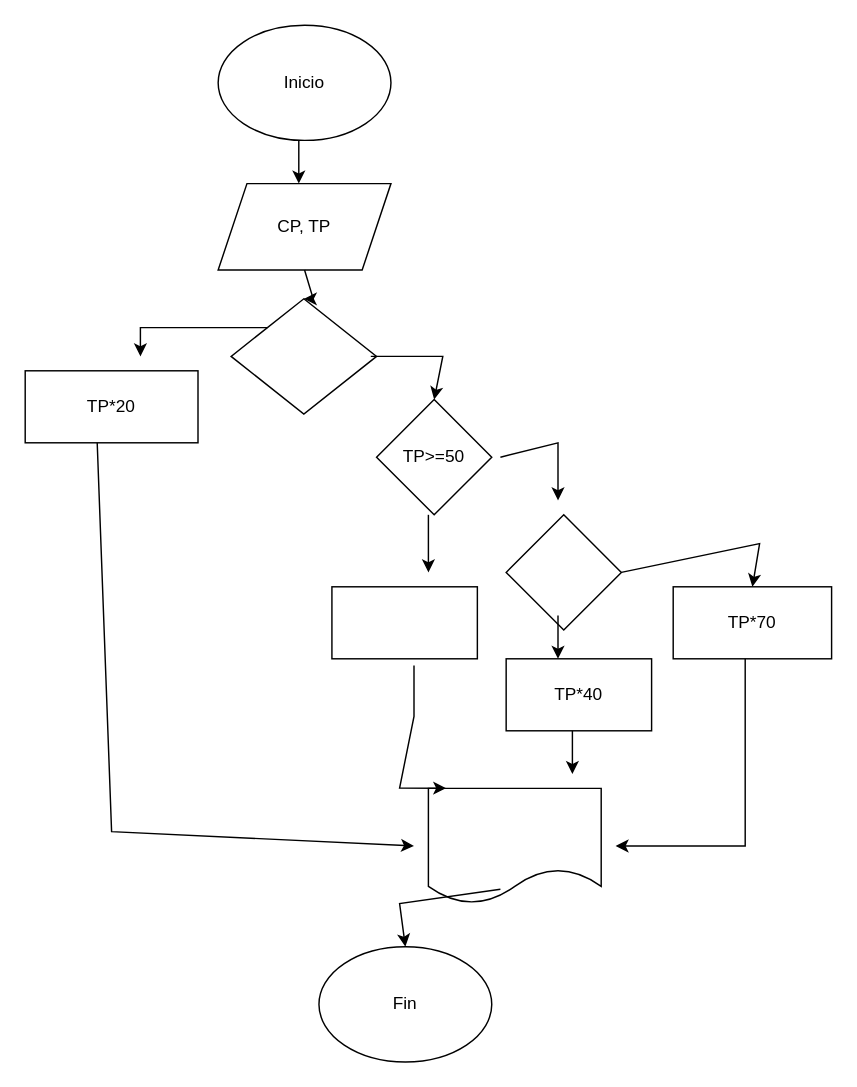
Some shapes in this 857 by 1087 pixel diagram are drawn without their labels. The centre of each missing label's shape, as x and y in pixels:
"CT" goes at (x=514, y=845).
"TP*35" goes at (x=403, y=622).
"TP>= 101" goes at (x=303, y=355).
"TP>=20" goes at (x=563, y=571).
